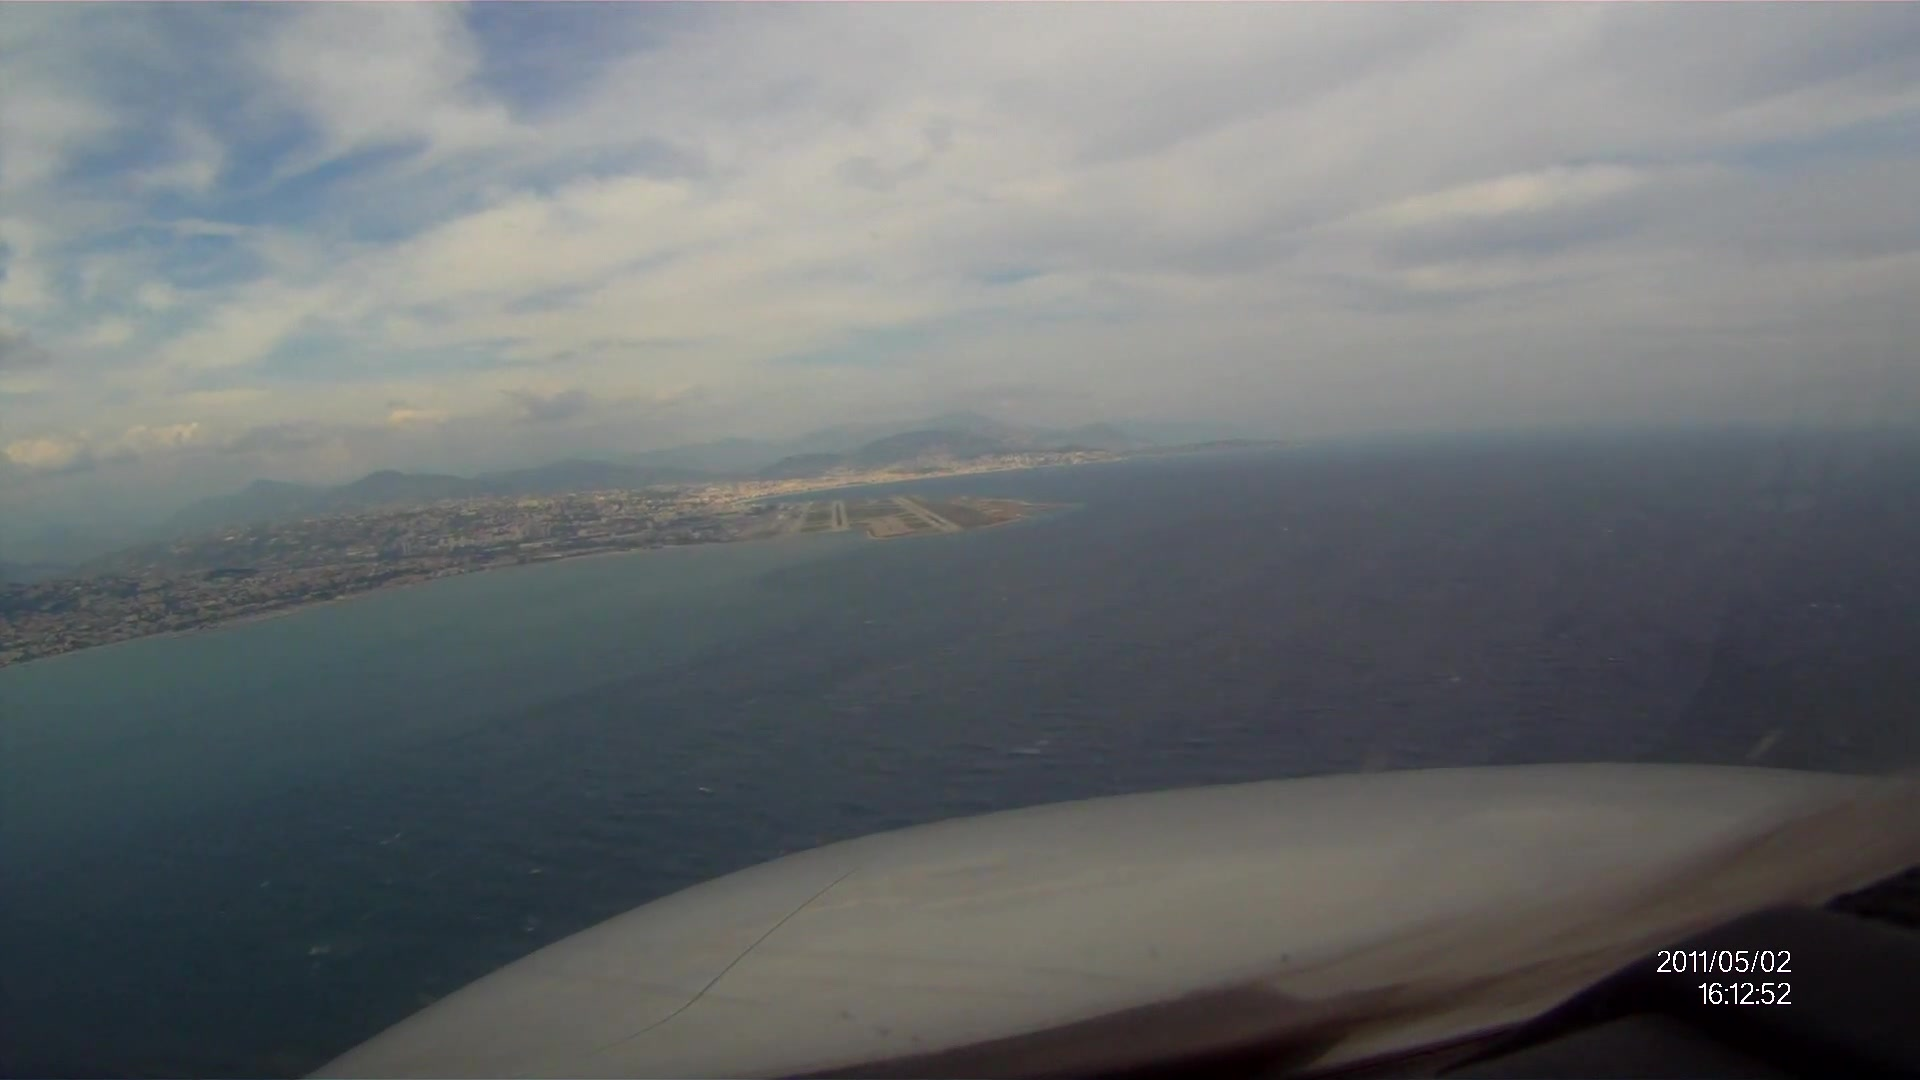runway: (891, 497, 964, 533), (828, 498, 851, 535)
